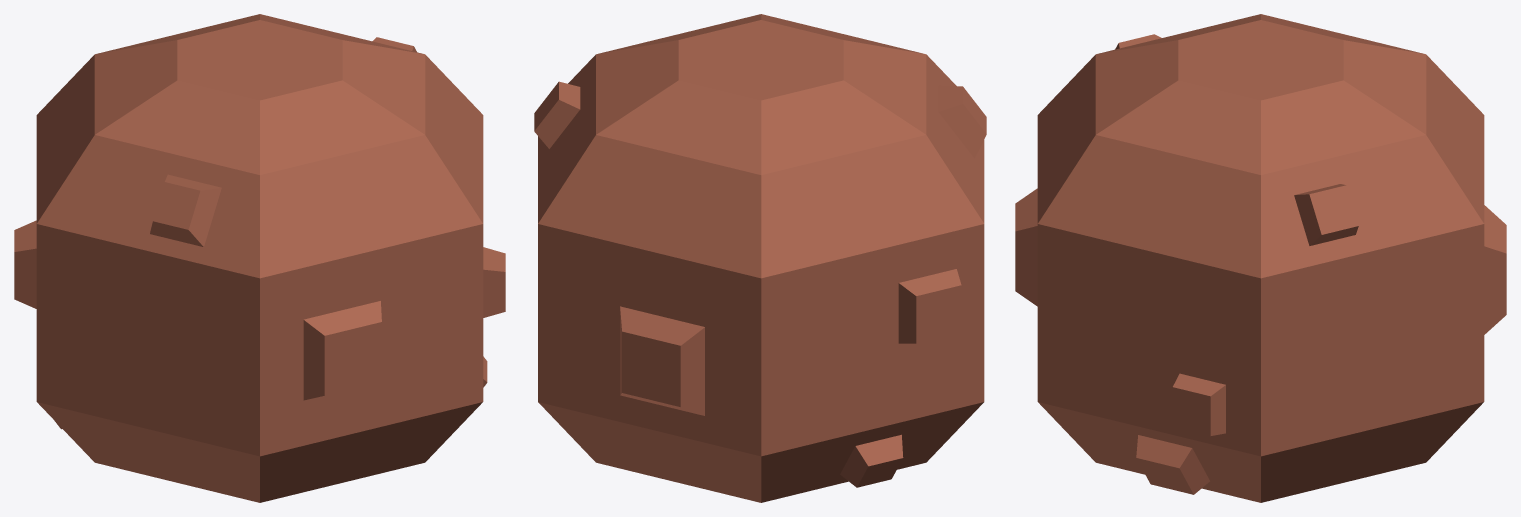
File: meteor_detailed.obj
The picture shows the model from 3 angles, left to right: view 1: azimuth 30°, elevation 25°; view 2: azimuth 150°, elevation 25°; view 3: azimuth 270°, elevation 25°; orthographic projection.
Visible parts, largest first — view 1: meteor_detailed; view 2: meteor_detailed; view 3: meteor_detailed.
Boxes of the visible parts, left/top/right/bottom form: meteor_detailed: left=14, top=14, right=505, bottom=502; meteor_detailed: left=534, top=14, right=986, bottom=502; meteor_detailed: left=1015, top=14, right=1506, bottom=502.
Size of the model in its own units: 0.866 by 0.735 by 0.825.
